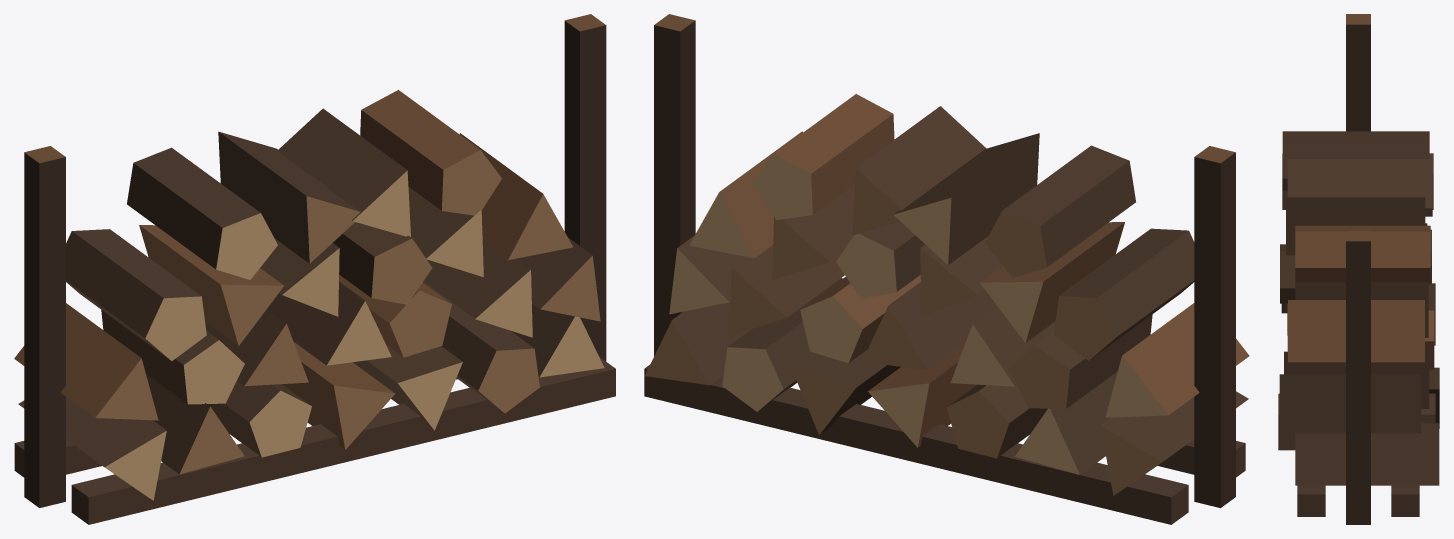
File: firewood_stack.fbx
The picture shows the model from 3 angles, left to right: view 1: azimuth 30°, elevation 25°; view 2: azimuth 150°, elevation 25°; view 3: azimuth 270°, elevation 25°; orthographic projection. The views are drawn at different scales.
Parts seen in each view (by area): view 1: firewood_stack; view 2: firewood_stack; view 3: firewood_stack.
Boxes of the visible parts, <box> form: firewood_stack: <box>14,14,615,524</box>; firewood_stack: <box>644,14,1249,524</box>; firewood_stack: <box>1278,14,1439,524</box>.
Bounding box in the file's own units: 1.72 × 1 × 0.5166.
